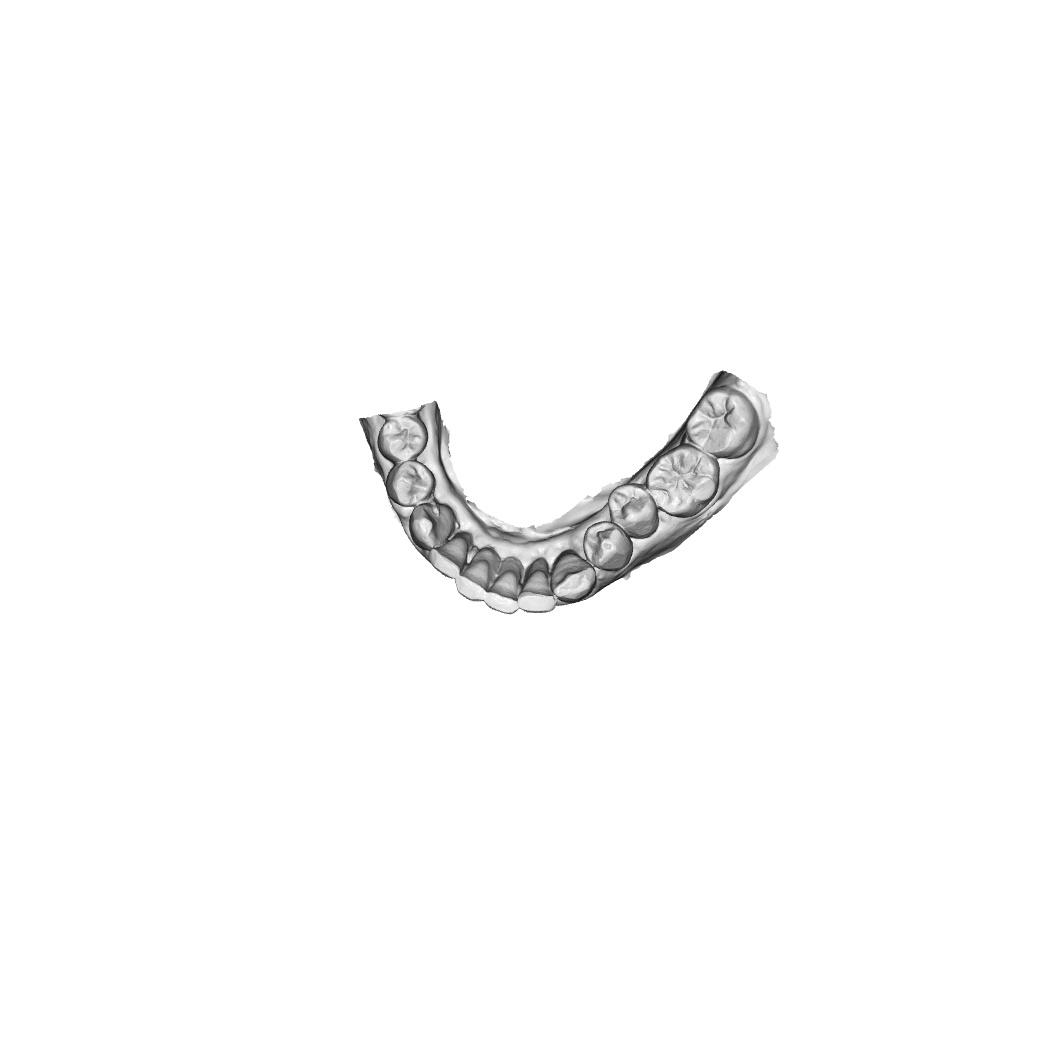canine: (550, 549, 597, 604), (408, 502, 457, 551)
incisor: (453, 547, 500, 602), (516, 558, 557, 615), (428, 531, 473, 580), (483, 559, 521, 615)
molar: (683, 385, 762, 460), (645, 443, 720, 518)
premolar: (607, 483, 660, 540), (582, 521, 633, 573), (385, 459, 436, 508), (376, 417, 429, 464)
